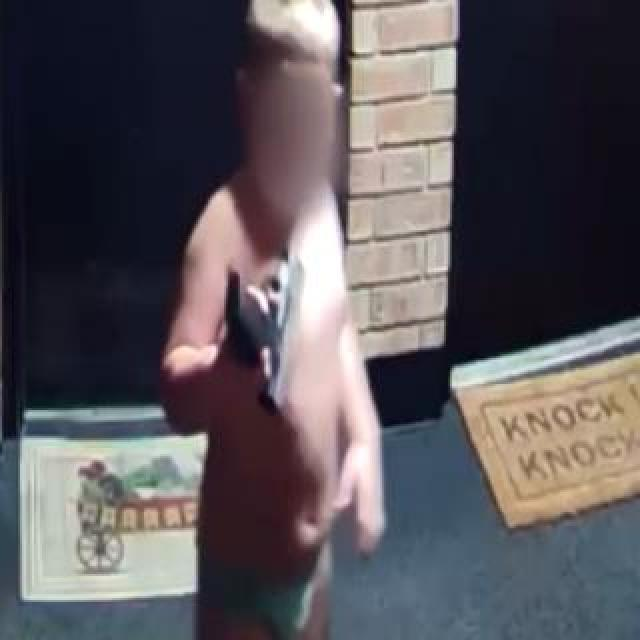Guns: (219, 248, 306, 412)
